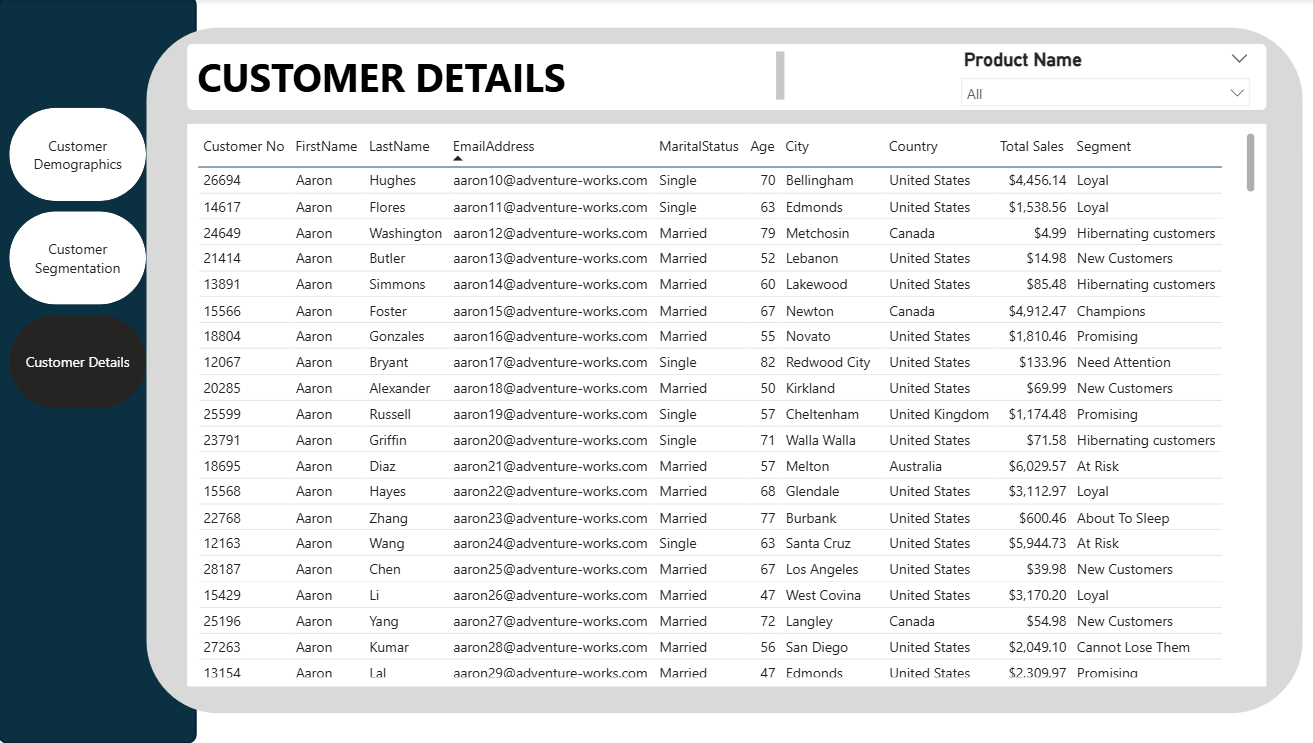

The dashboard page shown, as its layout file describes it:
{"tool":"powerbi","page":{"name":"Customer Details","canvas":[1280,720],"ordinal":2},"visuals":[{"type":"textbox","box":[187,45.8,576.7,57.9],"z":0},{"type":"tableEx","fields":{"Values":["DimCustomer.CustomerKey","DimCustomer.FirstName","DimCustomer.LastName","DimCustomer.EmailAddress","DimCustomer.MaritalStatus","Sum(DimCustomer.Age)","DimGeography.City","DimGeography.Country","Sum(FactInternetSales.SalesAmount)","Segment Table.Segment"]},"box":[187,124.3,1031.5,535.7],"z":1000},{"type":"slicer","fields":{"Values":["DimProduct.Product Name"]},"box":[919.3,43.4,299.2,61.5],"z":2000},{"type":"pageNavigator","box":[10.9,105,132.7,290.8],"z":2001}]}

Visuals, with their boxes in screenshot pixels (x1, y1, x2, y2), scaled from the page's 1280x720 canvas onto the 1313x743 screenshot:
textbox: [left=192, top=47, right=783, bottom=107]
tableEx - DimCustomer.CustomerKey x DimCustomer.FirstName: [left=192, top=128, right=1250, bottom=681]
slicer - DimProduct.Product Name: [left=943, top=45, right=1250, bottom=108]
pageNavigator: [left=11, top=108, right=147, bottom=408]
